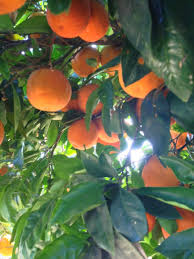orange: (118, 53, 170, 102), (23, 68, 71, 115), (140, 151, 183, 194), (45, 1, 92, 38), (64, 119, 97, 149), (79, 82, 109, 112)
